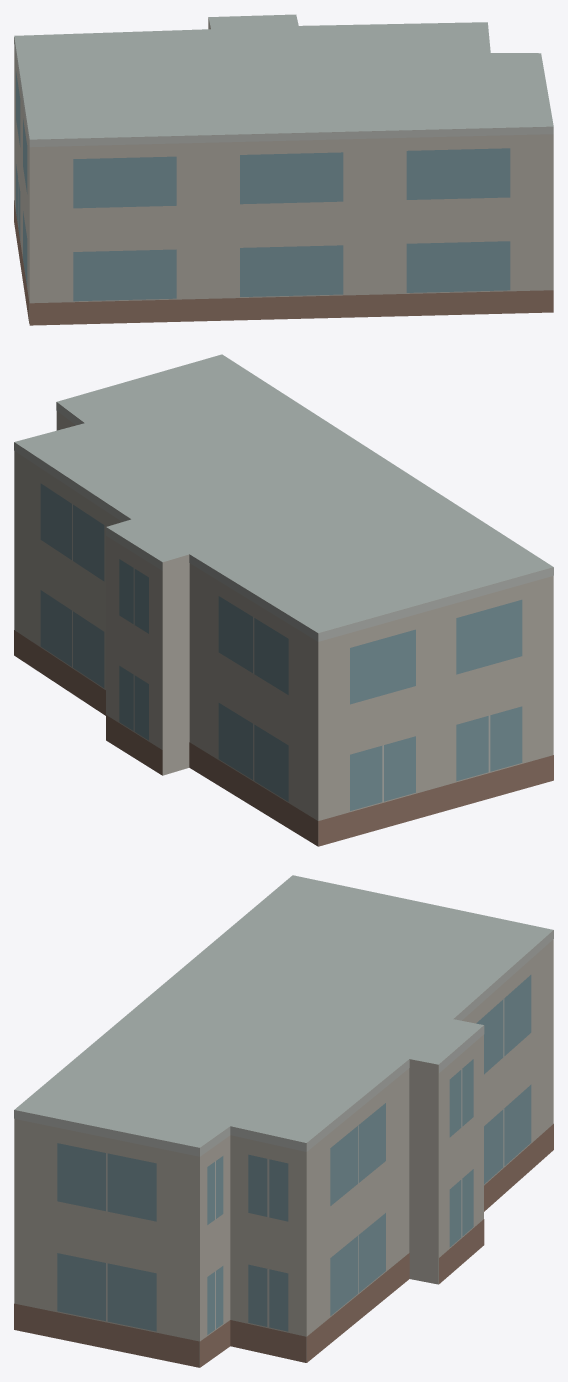
The model's file is survey-upis-32883541.glb.
3 views of the same model, one above another, from view 1: azimuth 30°, elevation 25°; view 2: azimuth 150°, elevation 25°; view 3: azimuth 270°, elevation 25° (orthographic). The views are drawn at different scales.
Parts seen in each view (by area): view 1: survey-upis-32883541.tmp; view 2: survey-upis-32883541.tmp; view 3: survey-upis-32883541.tmp.
Boxes of the visible parts, x1,y1,x2,y2 form: survey-upis-32883541.tmp: [14, 14, 553, 325]; survey-upis-32883541.tmp: [14, 354, 553, 846]; survey-upis-32883541.tmp: [14, 875, 553, 1367].
Size of the model in its own units: 15.97 by 6 by 13.35.
